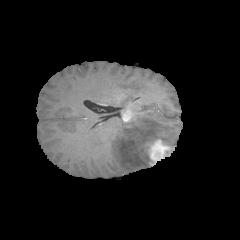glioma: (109, 110, 174, 172)
